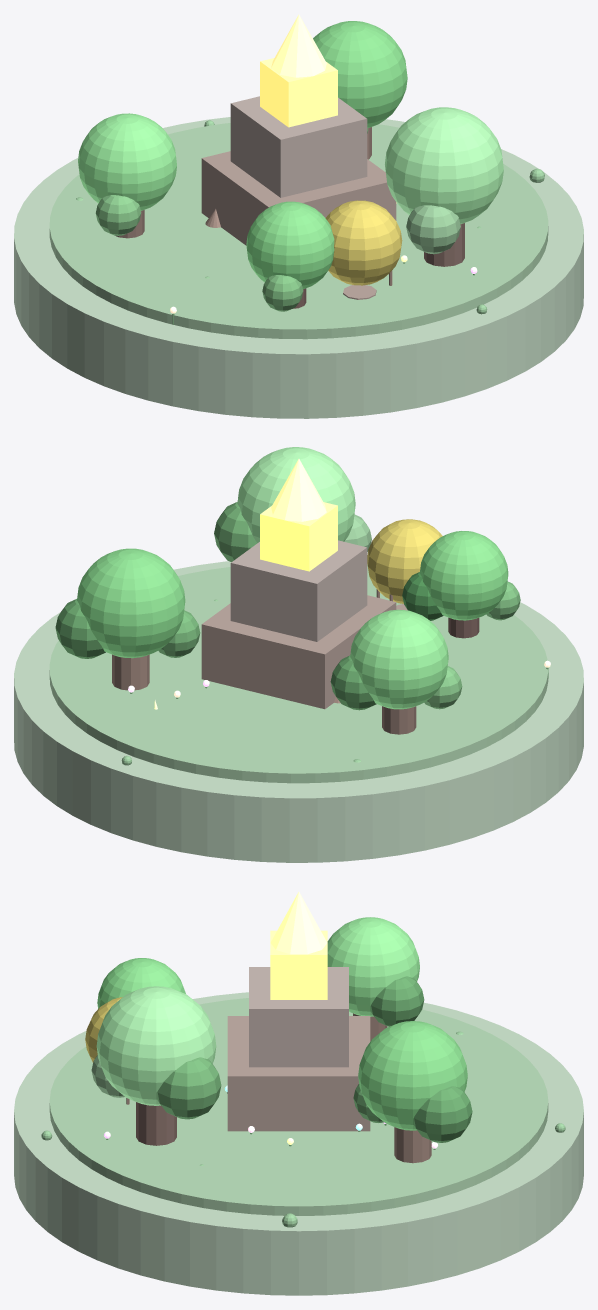
File: 05_dschungeltempel.glb
The picture shows the model from 3 angles, top to bottom: view 1: azimuth 30°, elevation 25°; view 2: azimuth 150°, elevation 25°; view 3: azimuth 270°, elevation 25°; orthographic projection.
Visible parts, largest first — view 1: IslandBase, GroundLayer, TreeCrown.002, TempleMid, TreeCrown.001, Temple, TreeCrown, TreeCrown.003, Balloon, TempleTop, TreeCrown3.002, TempleSpike (+3 smaller); view 2: IslandBase, GroundLayer, Temple, TempleMid, TreeCrown, TreeCrown.001, TreeCrown.003, TreeCrown.002, TempleTop, Balloon, TempleSpike, TreeCrown2 (+10 smaller); view 3: IslandBase, GroundLayer, Temple, TreeCrown.002, TempleMid, TreeCrown, TreeCrown.001, TempleTop, TreeCrown2.002, TreeCrown2, TreeCrown.003, TempleSpike (+4 smaller).
Part boxes in pixels (x1,y1,x2,y2): IslandBase: [14, 117, 583, 418]; GroundLayer: [49, 123, 548, 339]; TreeCrown.002: [385, 107, 503, 224]; TempleMid: [230, 96, 367, 197]; TreeCrown.001: [78, 113, 176, 210]; Temple: [201, 151, 396, 245]; TreeCrown: [313, 21, 407, 127]; TreeCrown.003: [246, 201, 334, 289]; Balloon: [325, 200, 402, 285]; TempleTop: [260, 58, 337, 127]; TreeCrown3.002: [406, 205, 460, 254]; TempleSpike: [271, 14, 326, 77]; IslandBase: [14, 561, 583, 862]; GroundLayer: [49, 567, 548, 783]; Temple: [201, 595, 396, 709]; TempleMid: [230, 540, 367, 641]; TreeCrown: [77, 548, 185, 658]; TreeCrown.001: [350, 609, 448, 709]; TreeCrown.003: [419, 531, 508, 620]; TreeCrown.002: [237, 447, 355, 542]; TempleTop: [260, 502, 337, 571]; Balloon: [367, 519, 442, 603]; TempleSpike: [271, 459, 326, 521]; TreeCrown2: [55, 599, 105, 658]; IslandBase: [14, 992, 583, 1295]; GroundLayer: [49, 998, 548, 1215]; Temple: [227, 1016, 370, 1131]; TreeCrown.002: [96, 986, 216, 1105]; TempleMid: [249, 967, 348, 1067]; TreeCrown: [358, 1021, 467, 1130]; TreeCrown.001: [327, 917, 419, 1016]; TempleTop: [270, 930, 327, 999]; TreeCrown2.002: [157, 1057, 221, 1119]; TreeCrown2: [414, 1086, 472, 1142]; TreeCrown.003: [97, 958, 185, 1008]; TempleSpike: [270, 892, 327, 954].
Bounding box in the file's own units: 10 × 5.5 × 10.
